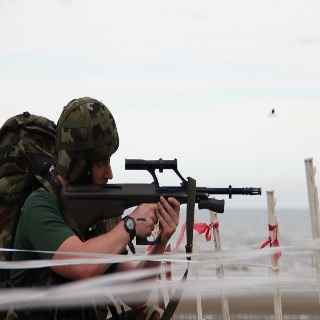rifle: (59, 156, 261, 244)
